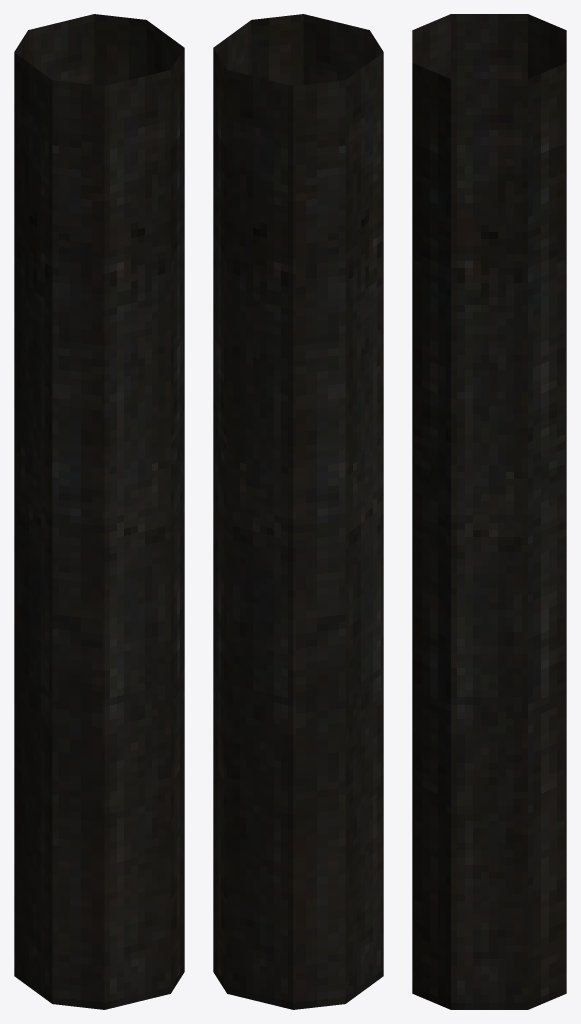
File: column_1.glb
3 views of the same model, side by side, from view 1: azimuth 30°, elevation 25°; view 2: azimuth 150°, elevation 25°; view 3: azimuth 270°, elevation 25° (orthographic).
Visible parts, largest first — view 1: column_1; view 2: column_1; view 3: column_1.
Boxes of the visible parts, x1,y1,x2,y2 form: column_1: (14, 14, 184, 1009); column_1: (213, 14, 383, 1009); column_1: (412, 14, 566, 1009).
Bounding box in the file's own units: 0.3 × 2 × 0.3.
Materials: 1 (1 with a texture image).
